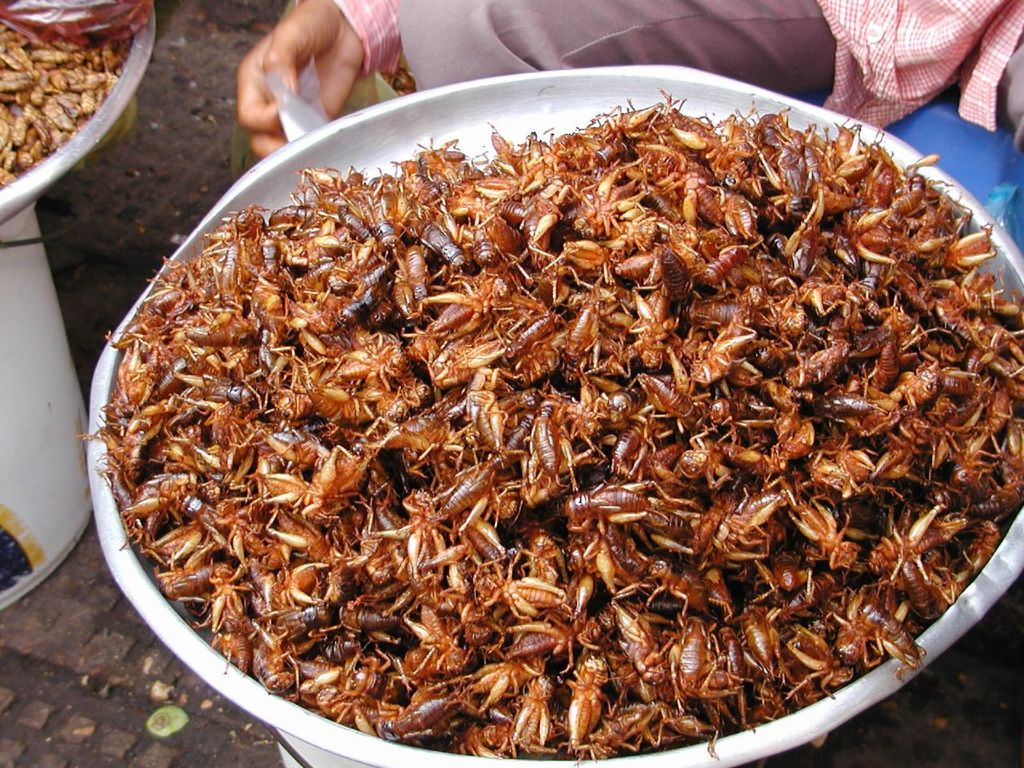Human_hand: (237, 0, 403, 158)
